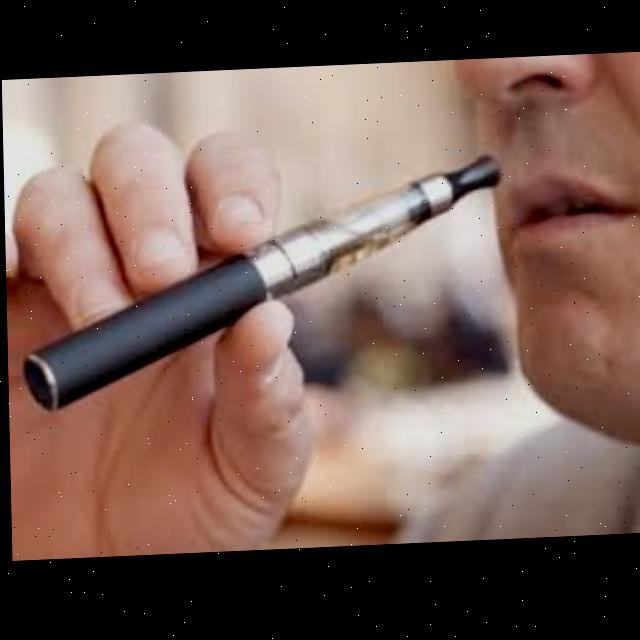vape: (17, 158, 503, 412)
